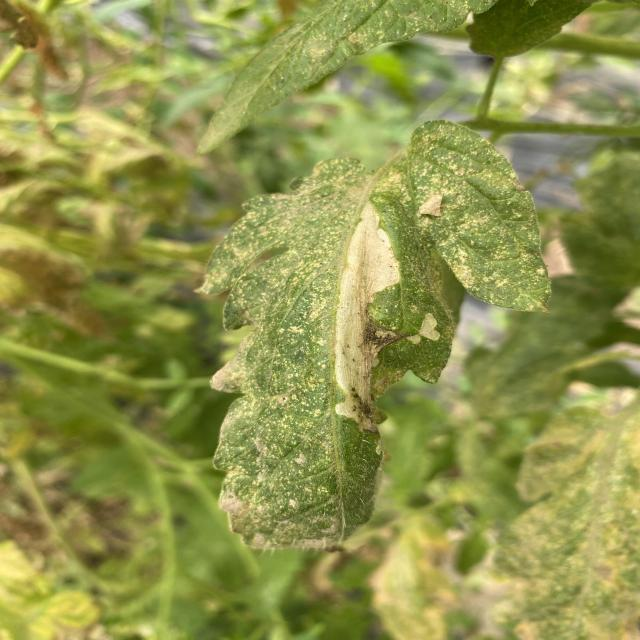Tuta absoluta: (329, 200, 405, 430), (417, 312, 447, 343), (407, 337, 415, 341)
